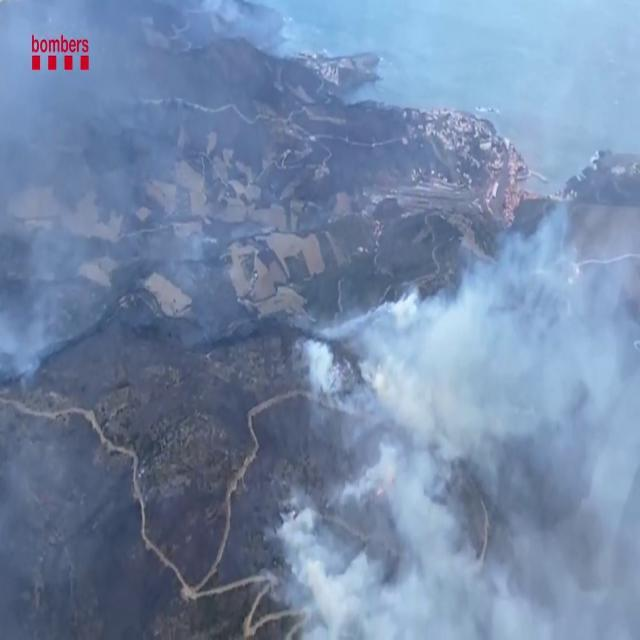Smoke: (276, 157, 640, 640), (0, 216, 58, 386)
